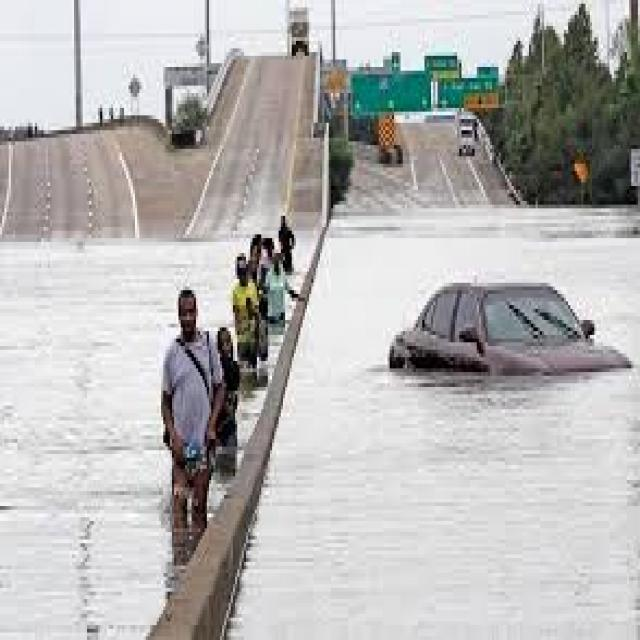Hurricane: (316, 141, 639, 640)
